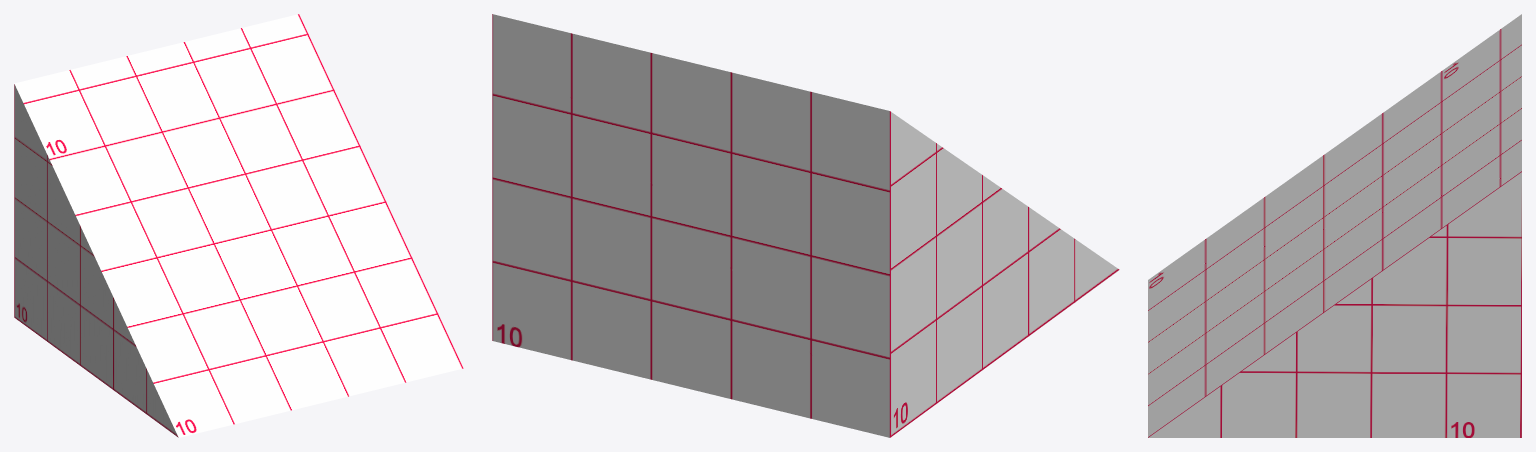
Rendered from Mesh_Slope_5x5_45.fbx.
The picture shows the model from 3 angles, left to right: view 1: azimuth 30°, elevation 25°; view 2: azimuth 150°, elevation 25°; view 3: azimuth 270°, elevation 25°; orthographic projection. The views are drawn at different scales.
Visible parts, largest first — view 1: Mesh_Slope_5x5_45; view 2: Mesh_Slope_5x5_45; view 3: Mesh_Slope_5x5_45.
Part boxes in pixels (<box>): Mesh_Slope_5x5_45: <box>14,14,463,437</box>; Mesh_Slope_5x5_45: <box>492,14,1119,437</box>; Mesh_Slope_5x5_45: <box>1148,14,1521,437</box>.
Bounding box in the file's own units: 500 × 393 × 500.
